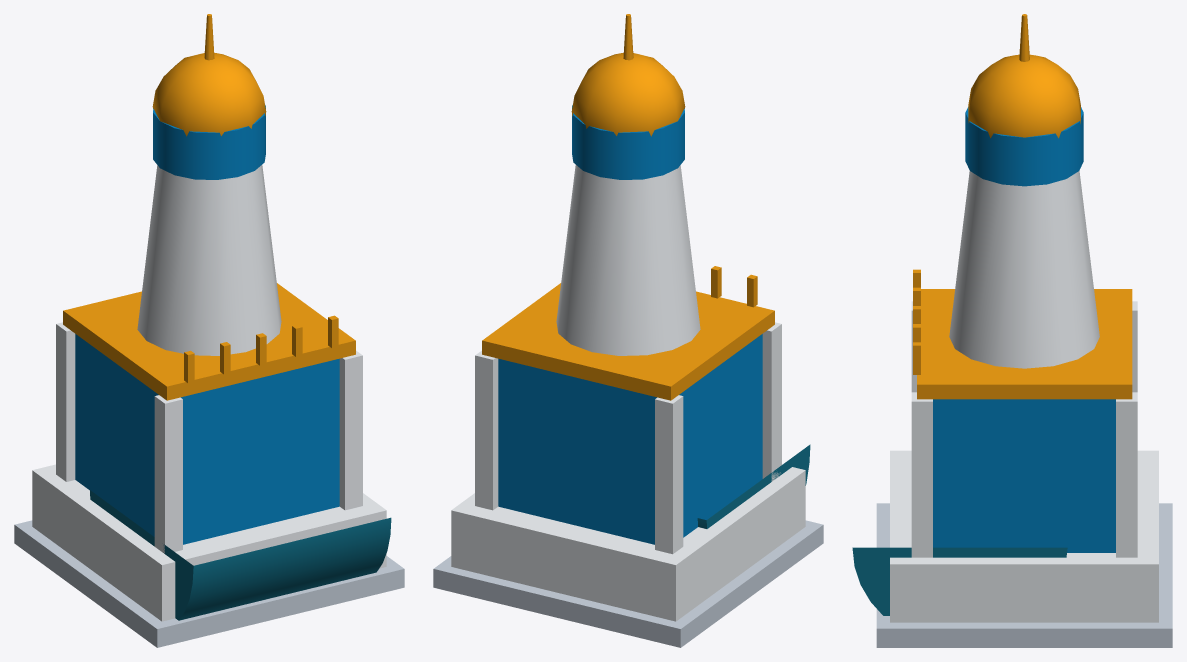
Rendered from bld_riverine_c3.glb.
3 renders of one model, left to right at view 1: azimuth 30°, elevation 25°; view 2: azimuth 150°, elevation 25°; view 3: azimuth 270°, elevation 25°, orthographic. The views are drawn at different scales.
Visible parts, largest first — view 1: Bld_Riverine_C3_MarinaComplex; view 2: Bld_Riverine_C3_MarinaComplex; view 3: Bld_Riverine_C3_MarinaComplex.
Part boxes in pixels (x1,y1,x2,y2): Bld_Riverine_C3_MarinaComplex: [14, 14, 404, 647]; Bld_Riverine_C3_MarinaComplex: [433, 14, 823, 647]; Bld_Riverine_C3_MarinaComplex: [852, 14, 1172, 647].
Size of the model in its own units: 0.55 by 1.19 by 0.595.
